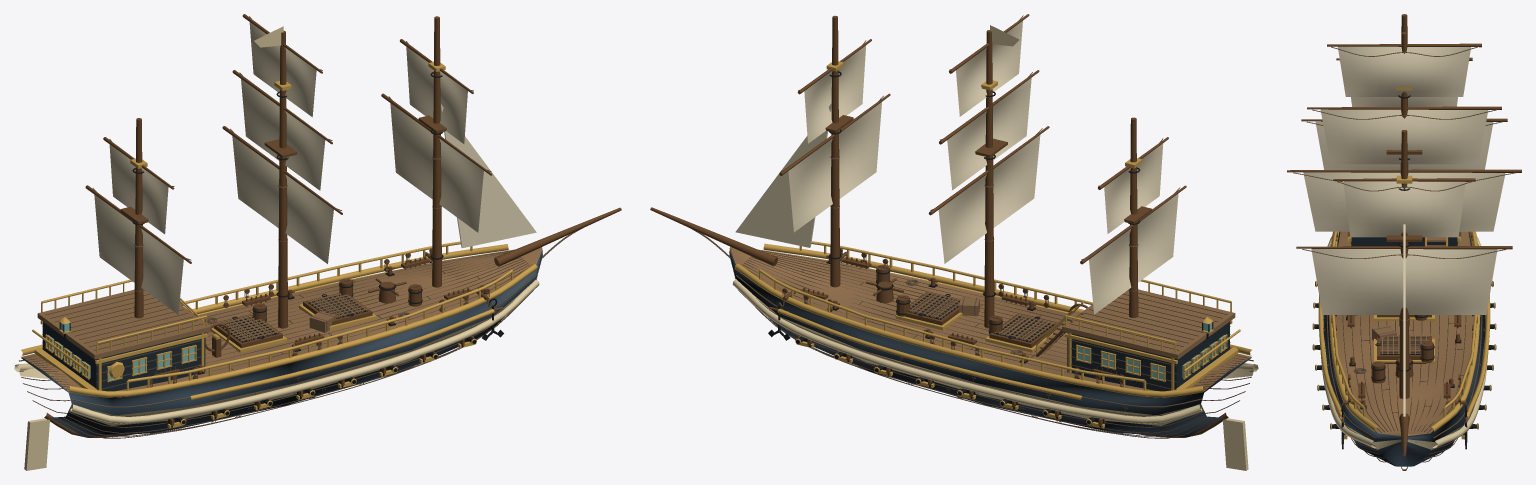
File: frigate.glb
3 views of the same model, side by side, from view 1: azimuth 30°, elevation 25°; view 2: azimuth 150°, elevation 25°; view 3: azimuth 270°, elevation 25° (orthographic).
Visible parts, largest first — view 1: Mesh_Batch_5, Mesh_Batch_7, Mesh_Batch_2, Mesh_Batch_0, Mesh_Batch_16, Mesh_Batch_13, SailSurface_5, Mesh_Batch_6, SailSurface_2, SailSurface_0, SailSurface_3, SailSurface_7 (+12 smaller); view 2: Mesh_Batch_5, Mesh_Batch_7, Mesh_Batch_2, Mesh_Batch_0, Mesh_Batch_16, Mesh_Batch_13, SailSurface_5, Mesh_Batch_6, SailSurface_2, SailSurface_0, SailSurface_3, SailSurface_7 (+12 smaller); view 3: SailSurface_5, Mesh_Batch_2, SailSurface_3, SailSurface_6, SailSurface_4, SailSurface_2, Mesh_Batch_5, Mesh_Batch_7, Mesh_Batch_0, Mesh_Batch_13, Mesh_Batch_34, SailSurface_0 (+12 smaller).
Boxes of the visible parts, bbox=[...] form: Mesh_Batch_5: bbox=[21, 61, 537, 428]; Mesh_Batch_7: bbox=[44, 16, 621, 437]; Mesh_Batch_2: bbox=[21, 247, 542, 391]; Mesh_Batch_0: bbox=[21, 250, 542, 437]; Mesh_Batch_16: bbox=[37, 290, 367, 359]; Mesh_Batch_13: bbox=[17, 251, 533, 438]; SailSurface_5: bbox=[390, 103, 483, 232]; Mesh_Batch_6: bbox=[14, 26, 539, 470]; SailSurface_2: bbox=[232, 136, 333, 263]; SailSurface_0: bbox=[94, 195, 183, 314]; SailSurface_3: bbox=[241, 79, 325, 190]; SailSurface_7: bbox=[440, 104, 536, 248]; Mesh_Batch_5: bbox=[734, 61, 1251, 428]; Mesh_Batch_7: bbox=[650, 15, 1228, 437]; Mesh_Batch_2: bbox=[729, 247, 1251, 391]; Mesh_Batch_0: bbox=[729, 250, 1251, 437]; Mesh_Batch_16: bbox=[909, 289, 1235, 359]; Mesh_Batch_13: bbox=[738, 250, 1254, 438]; SailSurface_5: bbox=[788, 102, 881, 232]; Mesh_Batch_6: bbox=[732, 25, 1258, 470]; SailSurface_2: bbox=[938, 135, 1040, 263]; SailSurface_0: bbox=[1089, 193, 1178, 314]; SailSurface_3: bbox=[947, 78, 1031, 190]; SailSurface_7: bbox=[735, 103, 831, 247]; SailSurface_5: bbox=[1311, 249, 1497, 314]; Mesh_Batch_2: bbox=[1334, 231, 1474, 435]; SailSurface_3: bbox=[1320, 109, 1488, 164]; SailSurface_6: bbox=[1343, 181, 1465, 237]; SailSurface_4: bbox=[1338, 46, 1470, 96]; SailSurface_2: bbox=[1303, 172, 1505, 231]; Mesh_Batch_5: bbox=[1312, 87, 1496, 439]; Mesh_Batch_7: bbox=[1324, 14, 1484, 470]; Mesh_Batch_0: bbox=[1323, 232, 1485, 466]; Mesh_Batch_13: bbox=[1323, 242, 1485, 462]; Mesh_Batch_34: bbox=[1287, 43, 1521, 172]; SailSurface_0: bbox=[1315, 121, 1493, 169].
Bounding box in the file's own units: 14.94 × 9.19 × 5.13.
